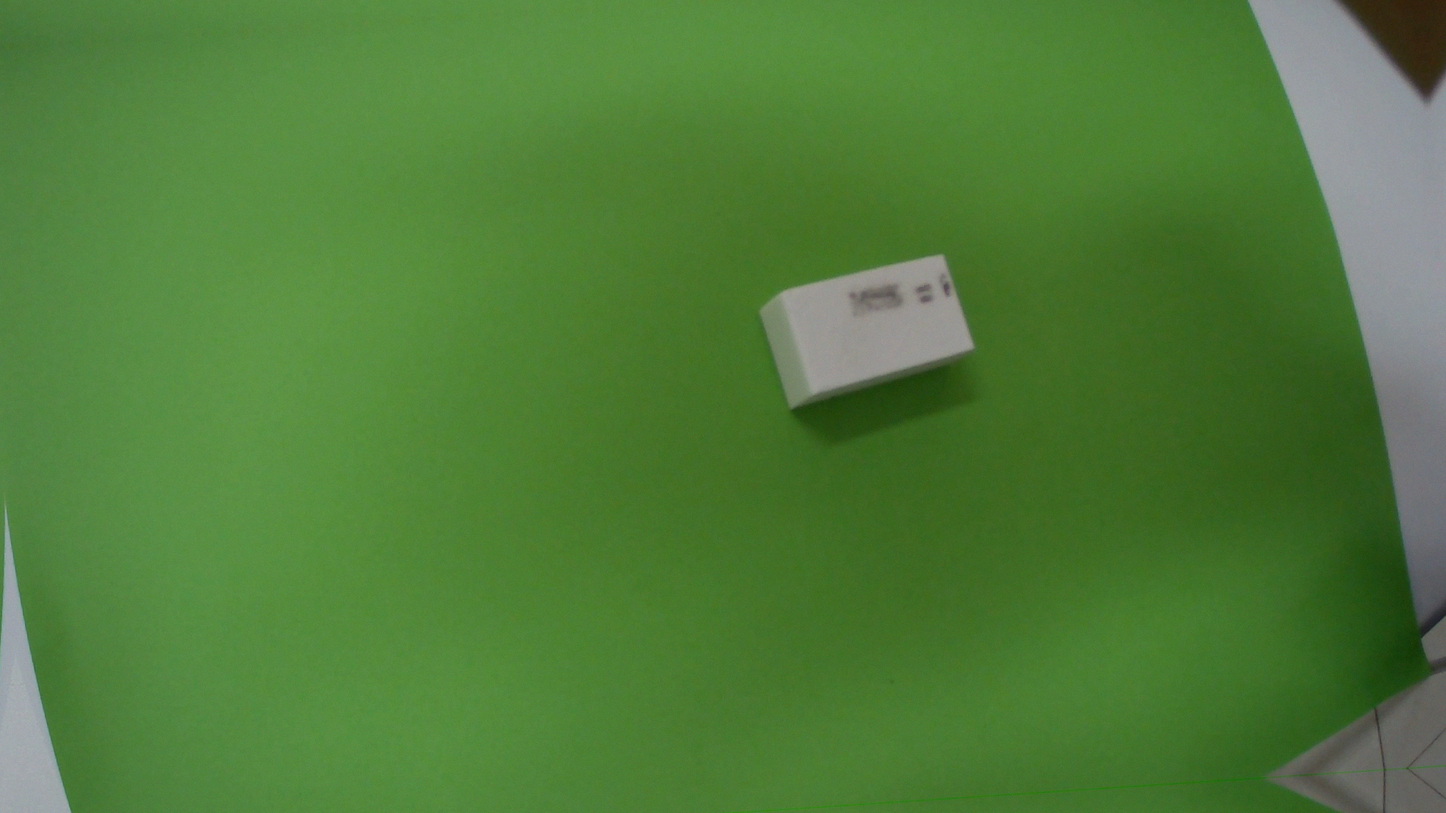gom: (758, 245, 975, 418)
